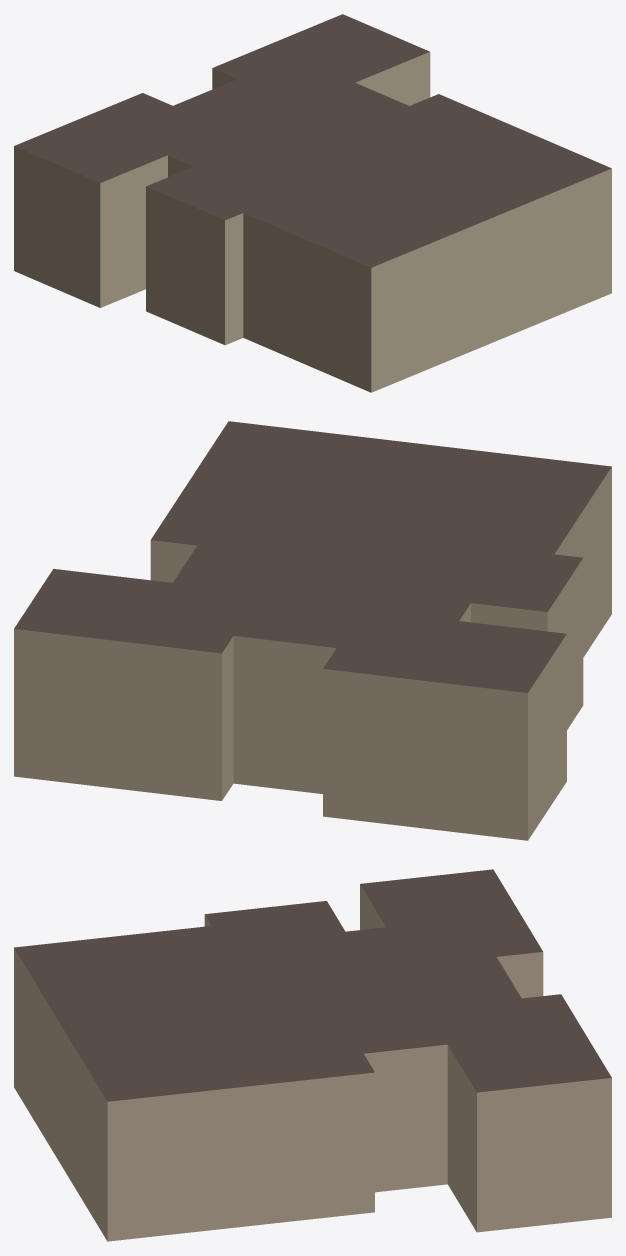
3 views of the same model, one above another, from view 1: azimuth 30°, elevation 25°; view 2: azimuth 150°, elevation 25°; view 3: azimuth 270°, elevation 25° (orthographic). The views are drawn at different scales.
Parts seen in each view (by area): view 1: HP-w293418158; view 2: HP-w293418158; view 3: HP-w293418158.
Boxes of the visible parts, x1,y1,x2,y2 form: HP-w293418158: [14, 14, 611, 392]; HP-w293418158: [14, 421, 611, 840]; HP-w293418158: [14, 869, 611, 1241].
Bounding box in the file's own units: 32.08 × 9 × 34.88.
